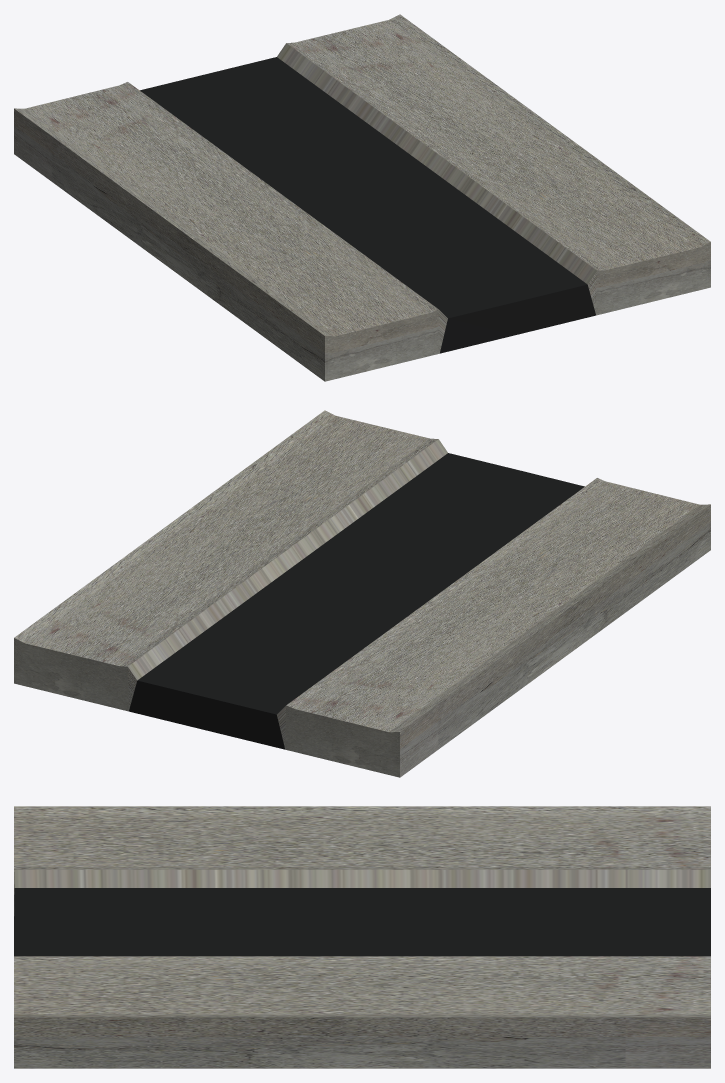
Rendered from Platform.fbx.
The picture shows the model from 3 angles, top to bottom: view 1: azimuth 30°, elevation 25°; view 2: azimuth 150°, elevation 25°; view 3: azimuth 270°, elevation 25°; orthographic projection. The views are drawn at different scales.
Visible parts, largest first — view 1: pCube1; view 2: pCube1; view 3: pCube1.
Boxes of the visible parts, left/top/right/bottom form: pCube1: left=14, top=14, right=710, bottom=381; pCube1: left=14, top=410, right=710, bottom=777; pCube1: left=14, top=806, right=710, bottom=1068.
Bounding box in the file's own units: 163 × 18.43 × 227.
2 materials, 1 textured.
